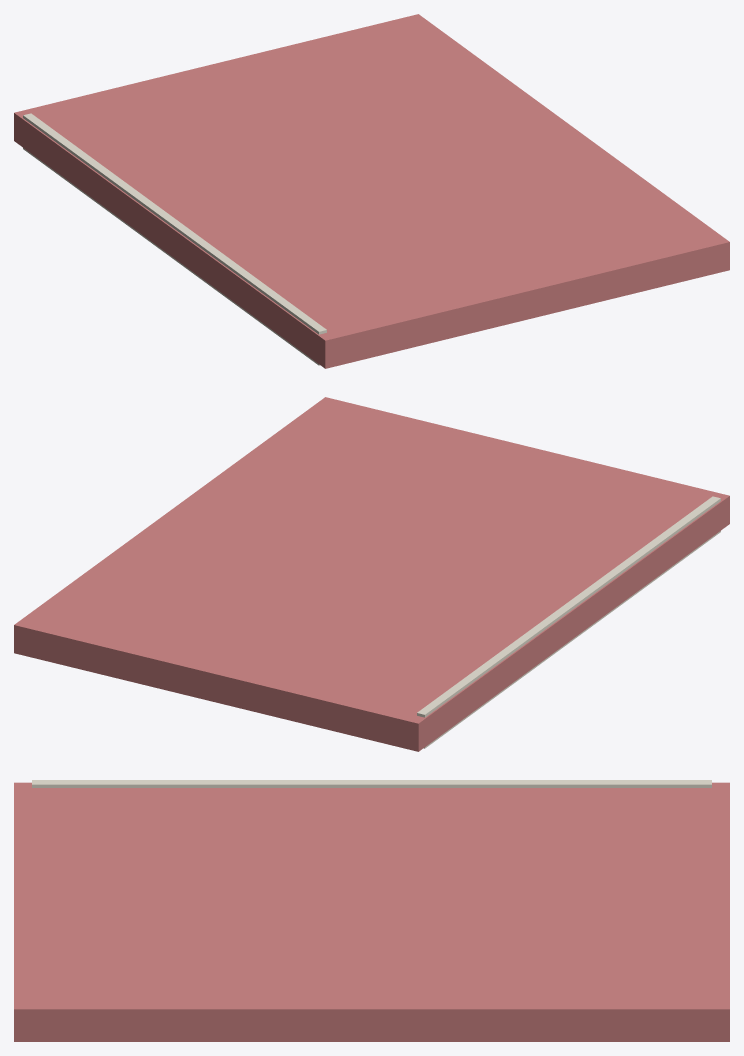
File: prop_magazine.fbx
The picture shows the model from 3 angles, top to bottom: view 1: azimuth 30°, elevation 25°; view 2: azimuth 150°, elevation 25°; view 3: azimuth 270°, elevation 25°; orthographic projection. The views are drawn at different scales.
Parts seen in each view (by area): view 1: Mag_Body, Mag_Spine; view 2: Mag_Body, Mag_Spine; view 3: Mag_Body, Mag_Spine.
Part boxes in pixels (bbox=[...]): Mag_Body: bbox=[14, 14, 729, 368]; Mag_Spine: bbox=[23, 113, 326, 365]; Mag_Body: bbox=[14, 397, 729, 751]; Mag_Spine: bbox=[417, 496, 720, 748]; Mag_Body: bbox=[14, 782, 729, 1041]; Mag_Spine: bbox=[32, 780, 711, 787].
Bounding box in the file's own units: 15 × 1.2 × 20.
